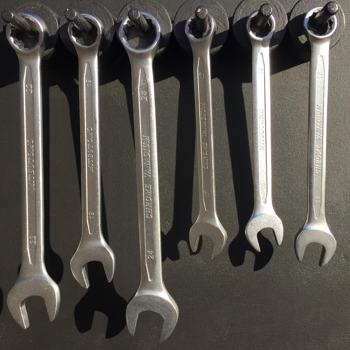bottom: (4, 271, 65, 331), (123, 286, 182, 343), (67, 240, 116, 290), (293, 222, 337, 268), (186, 215, 228, 261), (243, 210, 286, 253)
top: (3, 9, 51, 58), (116, 11, 164, 60), (63, 11, 106, 57), (302, 4, 340, 44), (182, 9, 219, 46), (244, 8, 278, 46)
